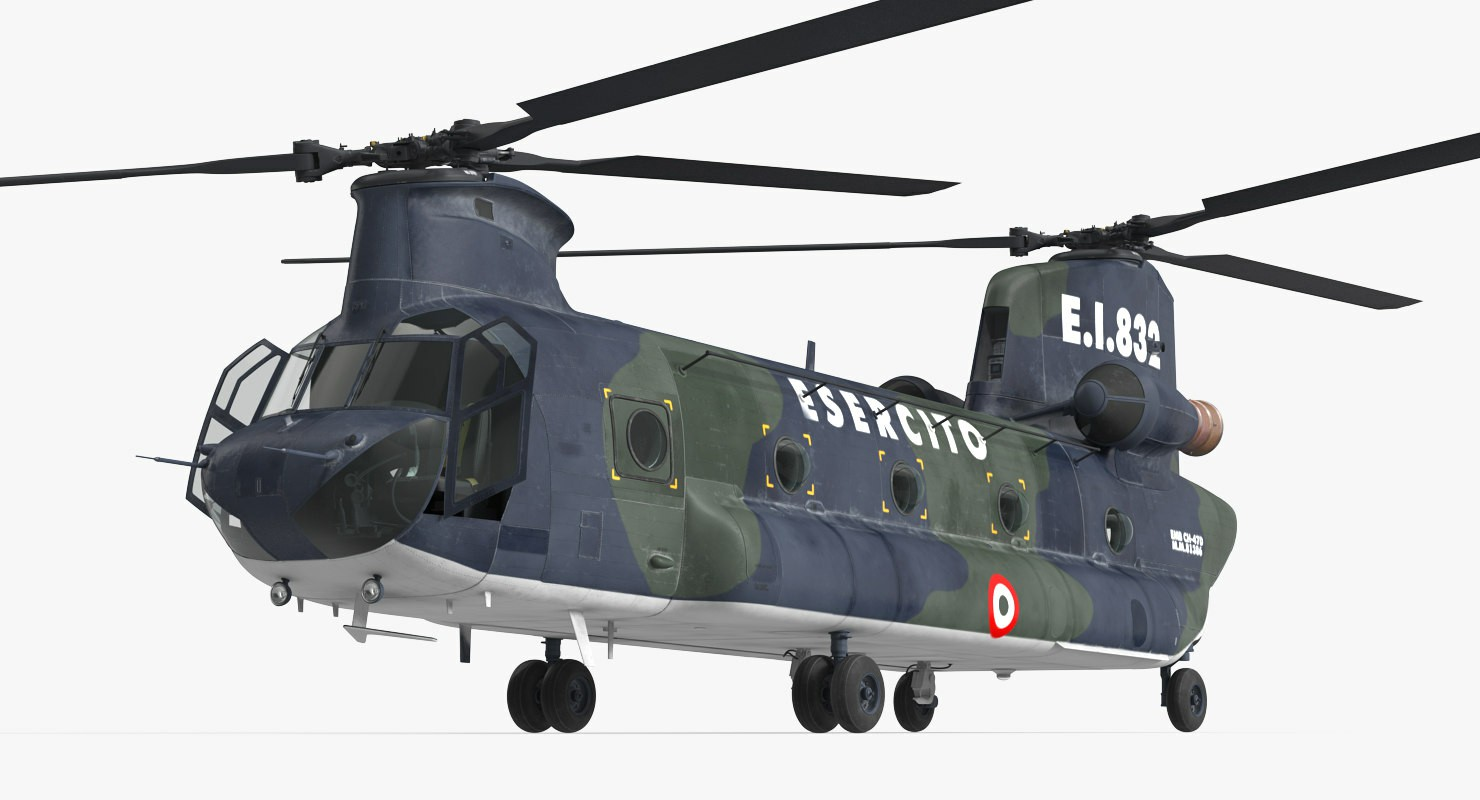chinook: (148, 2, 1467, 748)
